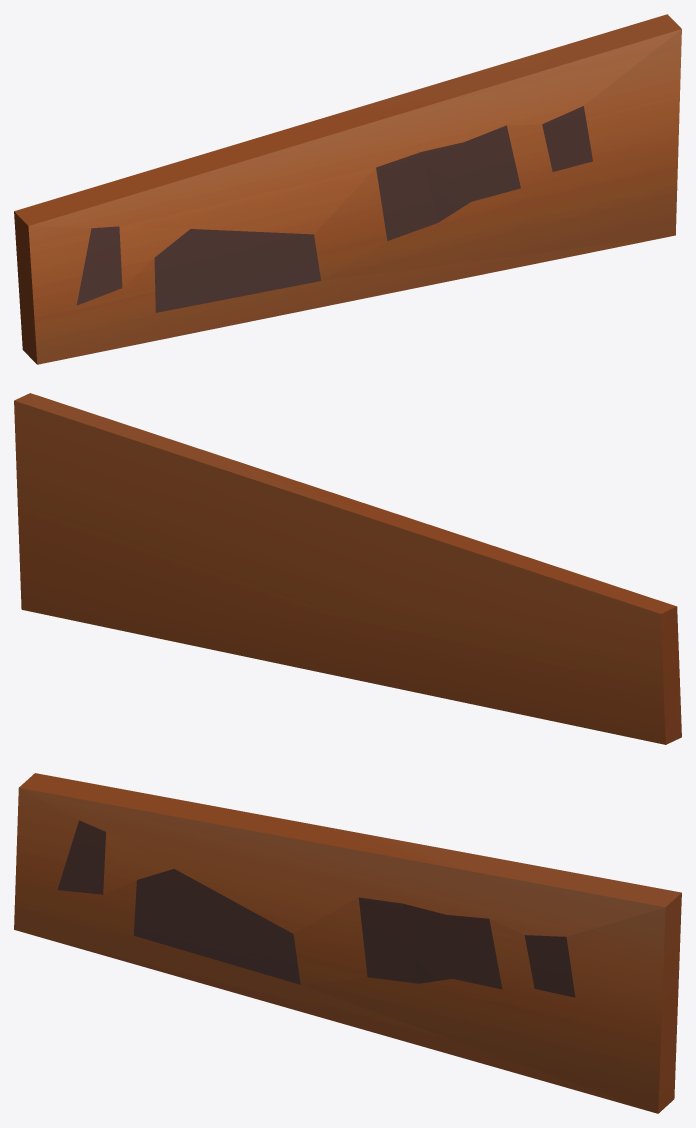
Rendered from SM_Building9.fbx.
The picture shows the model from 3 angles, top to bottom: view 1: azimuth 30°, elevation 25°; view 2: azimuth 150°, elevation 25°; view 3: azimuth 330°, elevation 25°; orthographic projection.
Visible parts, largest first — view 1: Cube.014; view 2: Cube.014; view 3: Cube.014.
Boxes of the visible parts, bbox=[...] form: Cube.014: bbox=[14, 14, 681, 364]; Cube.014: bbox=[14, 393, 681, 744]; Cube.014: bbox=[14, 773, 681, 1113].
Bounding box in the file's own units: 7.43 × 2.29 × 0.4884.
